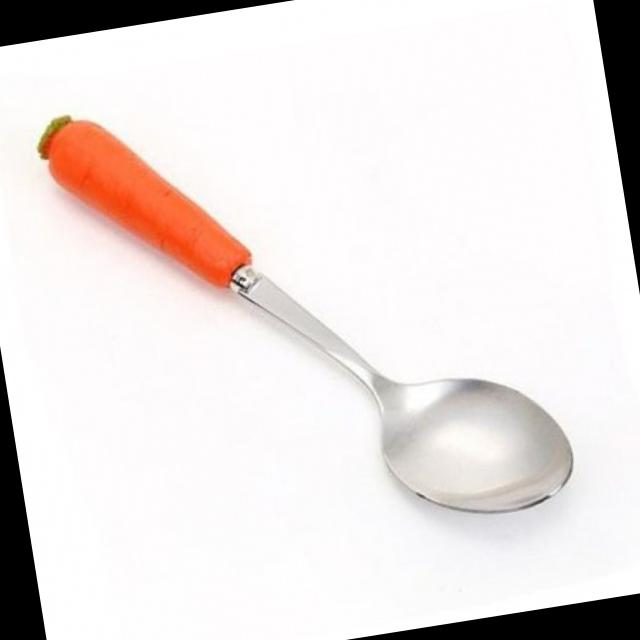spoon: (28, 34, 585, 599)
